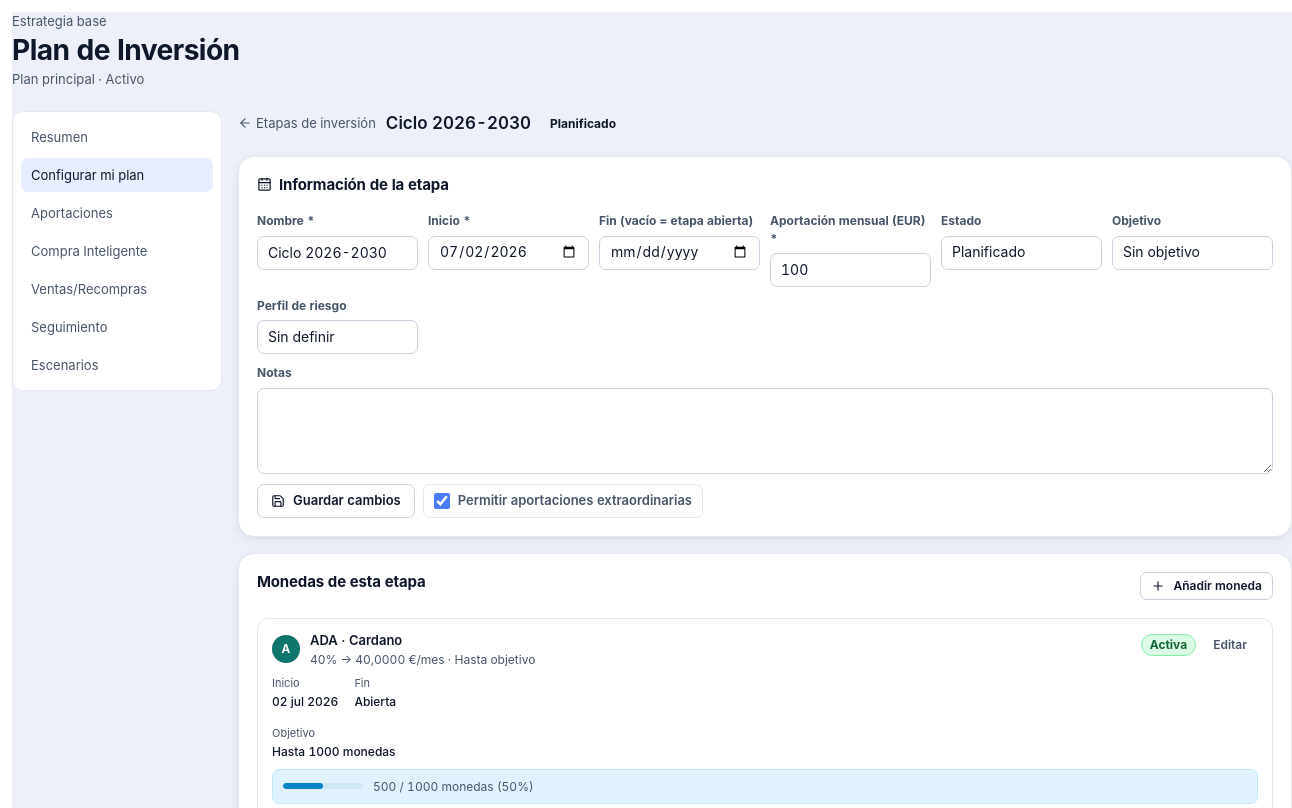
Test: PlanEtapaActivos — gestión de monedas › impide moneda duplicada activa con fechas solapadas
Expected: the button "Editar" is shown, [1202, 631, 1258, 659]
Click the button "Añadir moneda" at (1207, 586), box [1140, 572, 1273, 600]
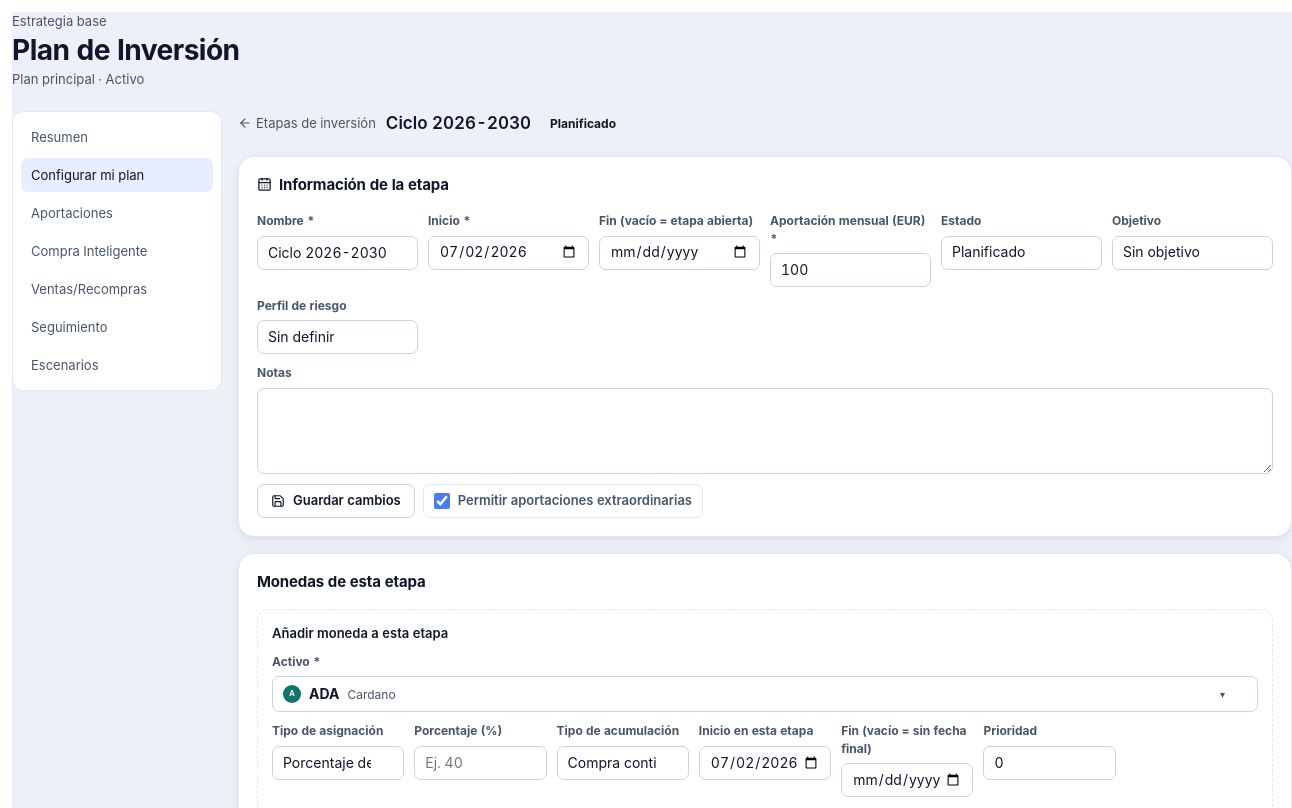
Expected: the heading "Añadir moneda a esta etapa" is shown, [272, 625, 448, 641]
Type "40" into the field with placeholder "Ej. 40" at (480, 763), box [414, 746, 547, 780]
(page scrolled)
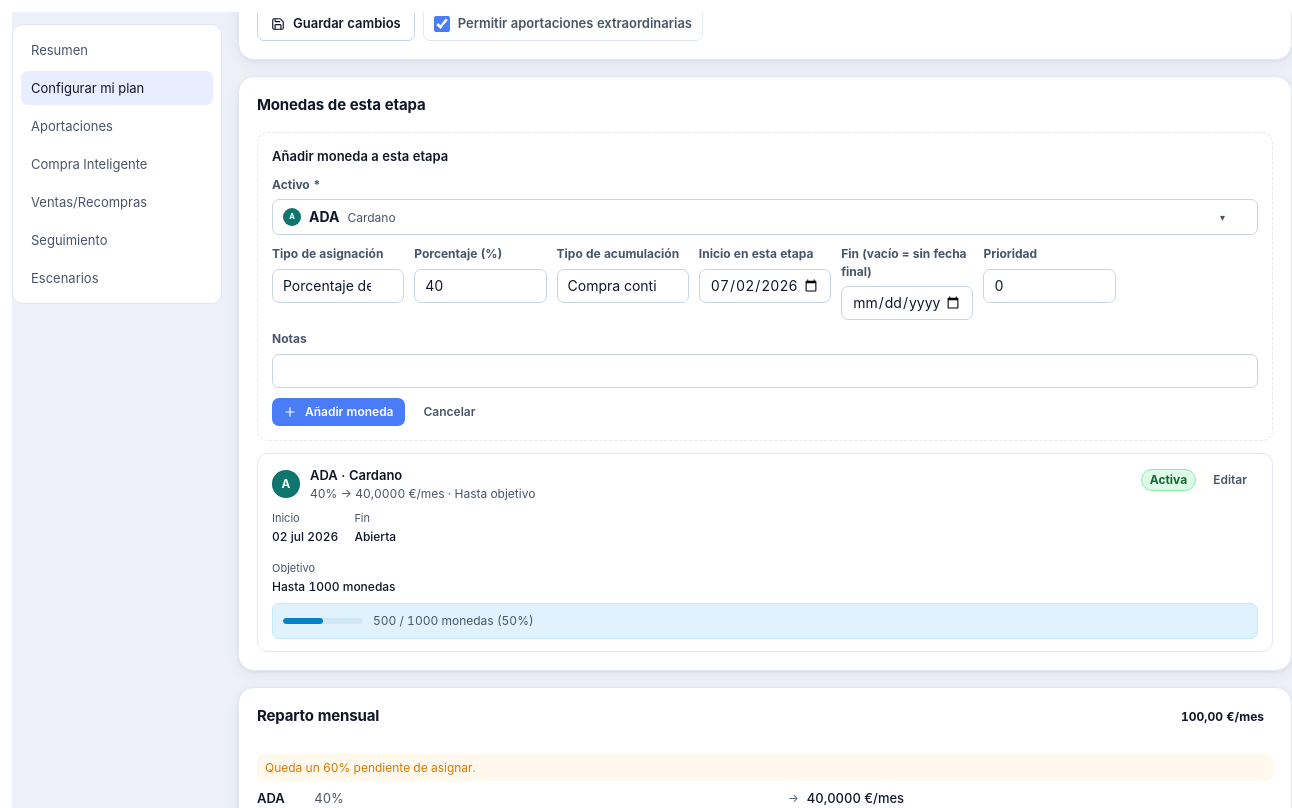
Click the button "Añadir moneda" at (338, 412), box [272, 398, 404, 426]
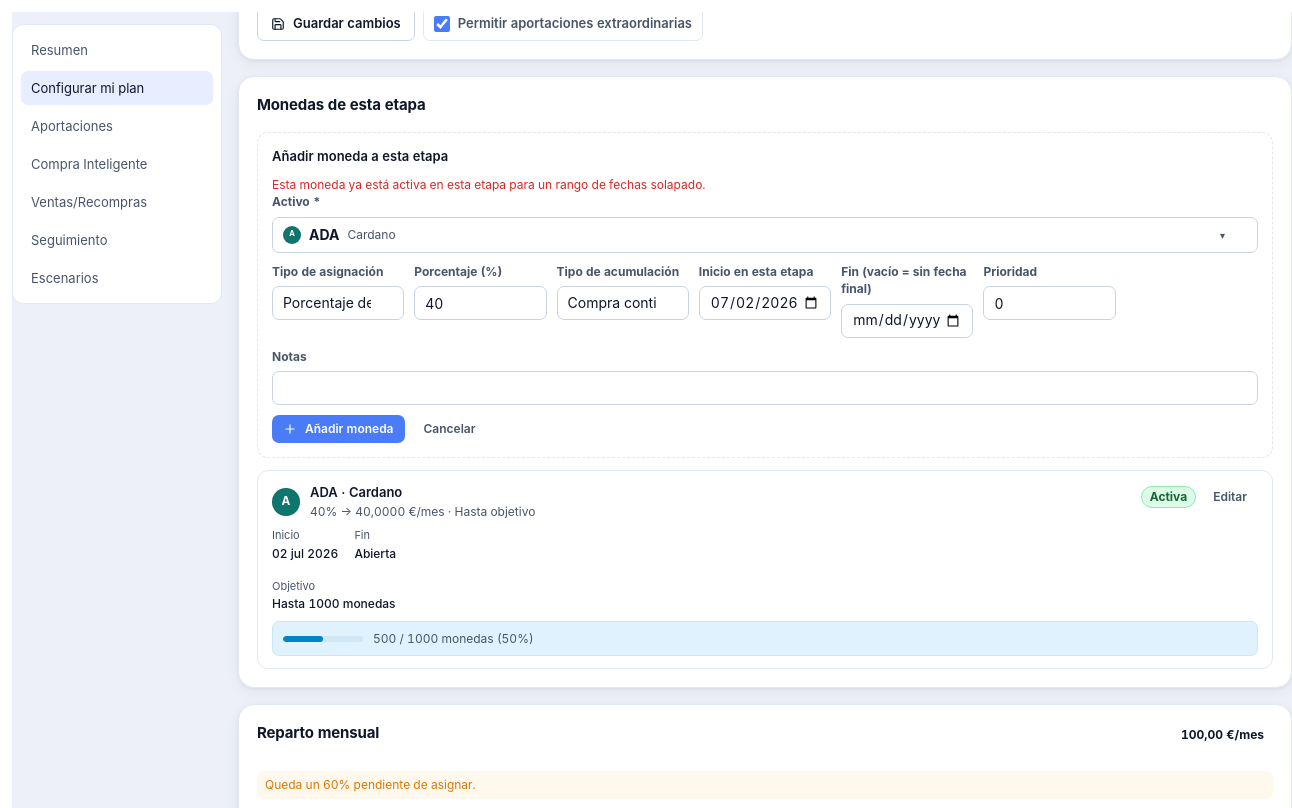
Expected: the text "rango de fechas solapado" is shown, [272, 177, 706, 192]
